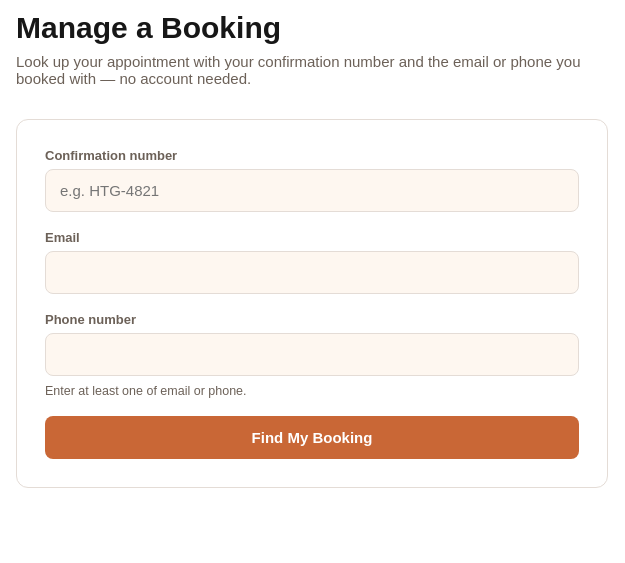
Test case: ManageBookingFlow — lookup -> result phase transition › blocks lookup when neither email nor phone is provided
Type "HTG-4821" into the field with test id "booking-lookup-reference-input" at (312, 190), box left=45, top=169, right=579, bottom=212
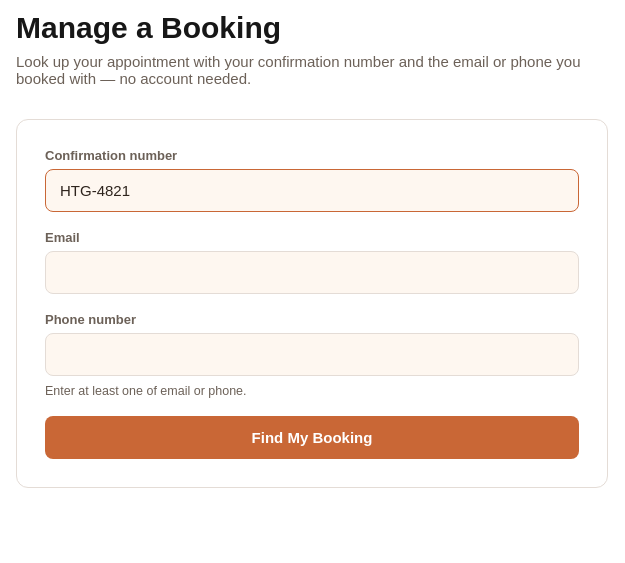
Click the button with test id "booking-lookup-submit-button" at (312, 438), box left=45, top=416, right=579, bottom=459
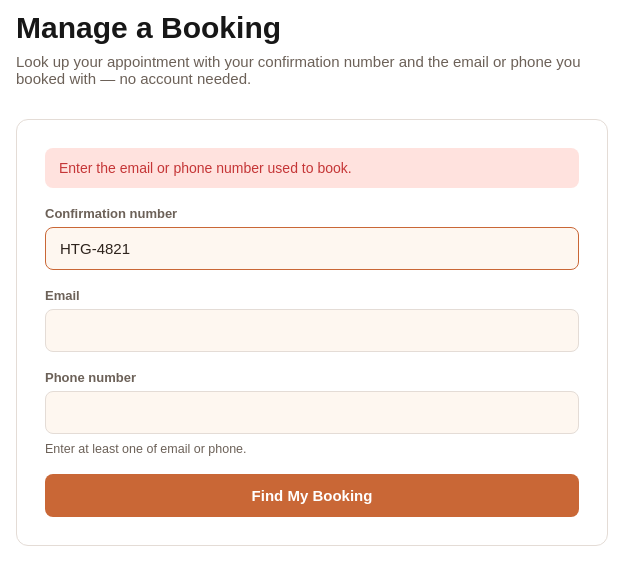
Result: the text with test id "booking-lookup-error" reads "Enter the email or phone number used to book." at left=59, top=160, right=352, bottom=176
